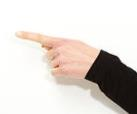up: (13, 29, 104, 83)
